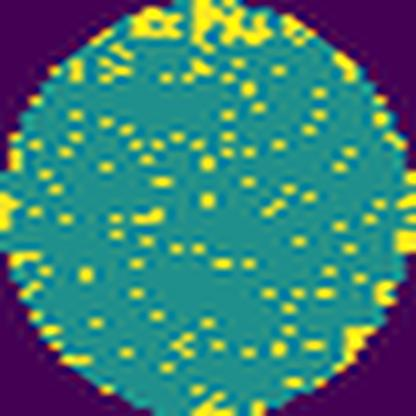Edge-Loc: (187, 0, 271, 52), (120, 0, 180, 42)
